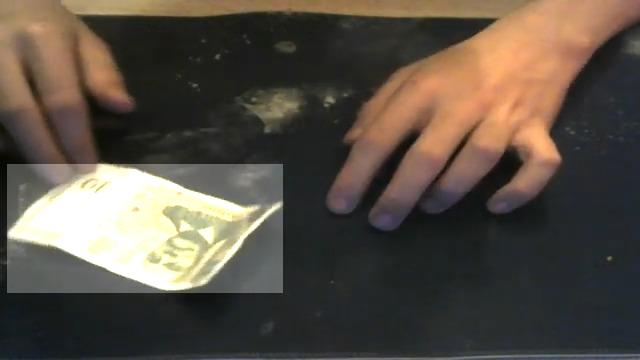10leva: (7, 164, 283, 293)
